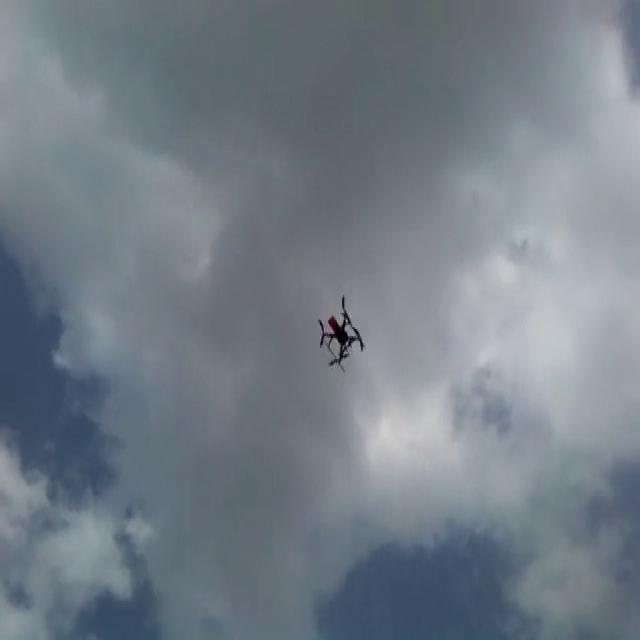drone: (315, 292, 363, 372)
